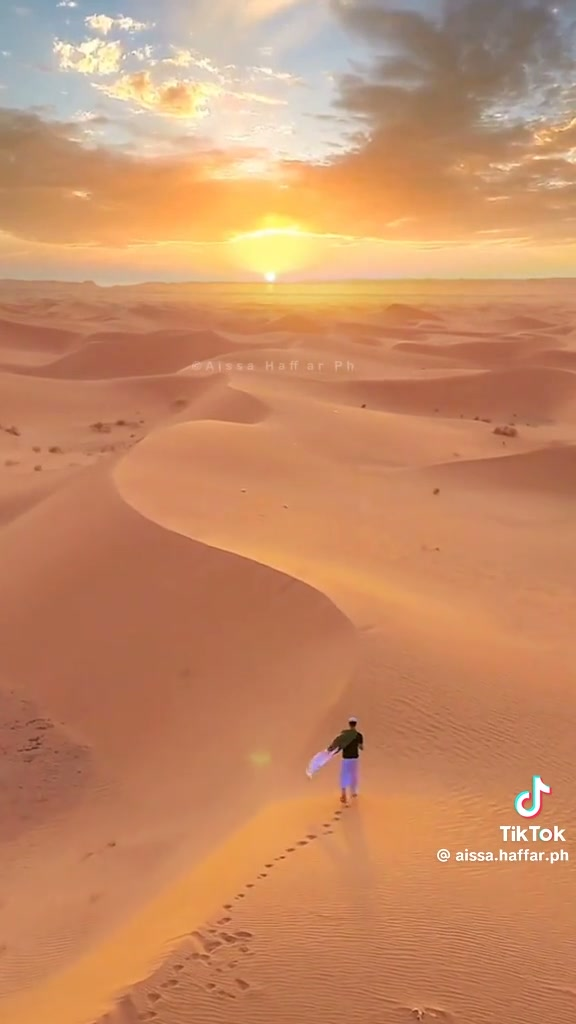human_footprint: (110, 809, 342, 1023), (94, 914, 252, 1023), (208, 828, 322, 955), (133, 914, 253, 1021), (192, 913, 253, 998), (274, 808, 345, 861), (276, 818, 337, 859), (410, 1006, 452, 1023), (322, 807, 344, 834), (235, 978, 249, 990), (257, 872, 267, 878), (264, 862, 273, 868)
